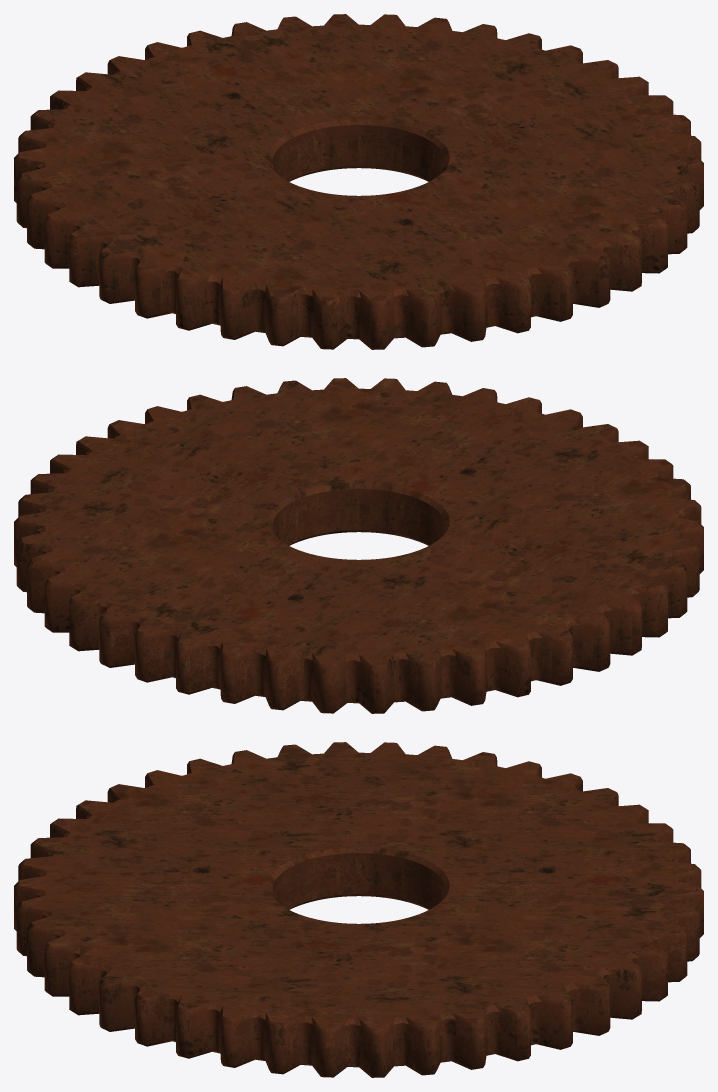
File: gear_4.glb
The picture shows the model from 3 angles, top to bottom: view 1: azimuth 30°, elevation 25°; view 2: azimuth 150°, elevation 25°; view 3: azimuth 270°, elevation 25°; orthographic projection.
Visible parts, largest first — view 1: gear_4; view 2: gear_4; view 3: gear_4.
Boxes of the visible parts, left/top/right/bottom form: gear_4: left=14, top=14, right=703, bottom=349; gear_4: left=14, top=378, right=703, bottom=713; gear_4: left=14, top=742, right=703, bottom=1077.
Size of the model in its own units: 0.3196 by 0.025 by 0.3199.
1 material, 1 textured.
